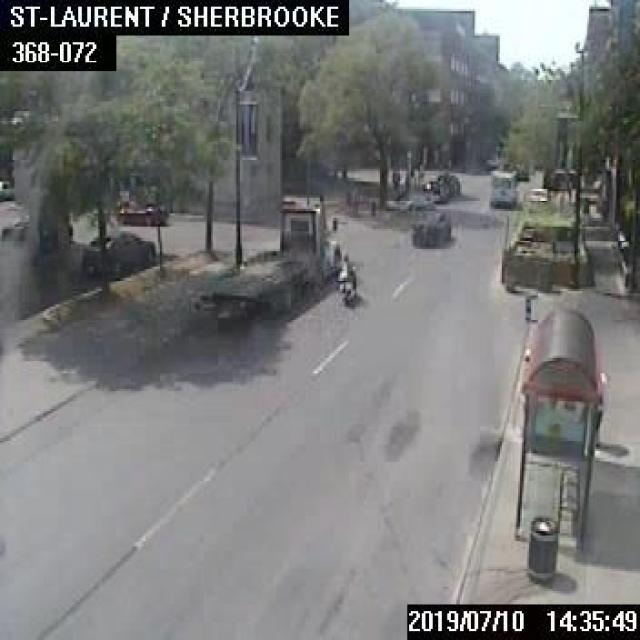pedestrian: (390, 165, 398, 195)
vehicle: (185, 189, 345, 327), (81, 229, 152, 277), (410, 207, 449, 247), (117, 200, 167, 223), (487, 169, 515, 209), (335, 254, 356, 306), (422, 172, 449, 201), (442, 172, 460, 196), (523, 186, 546, 202)
